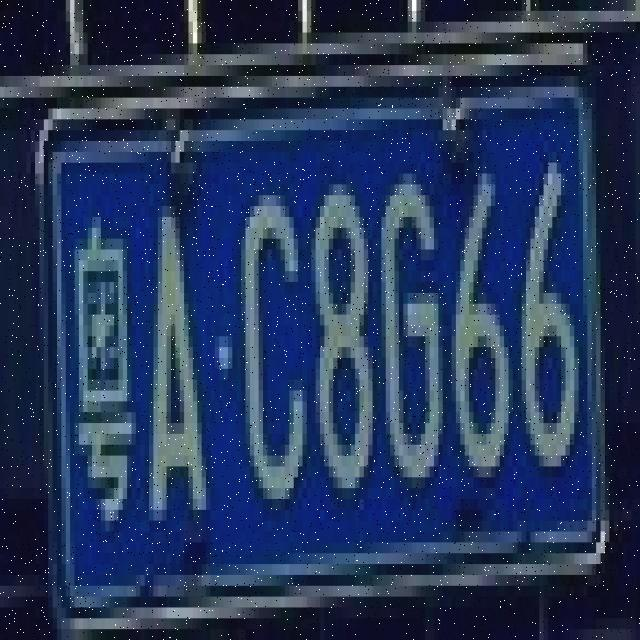licenseplate: (33, 74, 610, 626)
